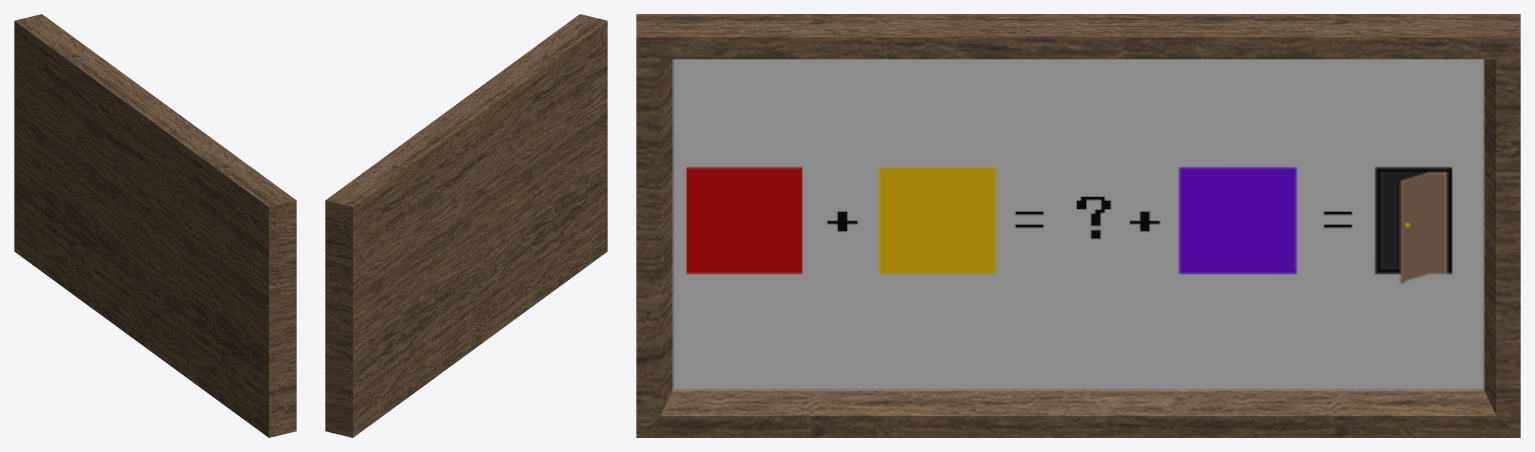
The model's file is Sign Guide 4.fbx.
3 renders of one model, left to right at view 1: azimuth 30°, elevation 25°; view 2: azimuth 150°, elevation 25°; view 3: azimuth 270°, elevation 25°, orthographic. The views are drawn at different scales.
Visible parts, largest first — view 1: Cube; view 2: Cube; view 3: Cube.
Part boxes in pixels (x1=…): Cube: x1=14, y1=14, x2=296, y2=437; Cube: x1=325, y1=14, x2=607, y2=437; Cube: x1=636, y1=14, x2=1520, y2=437.
Size of the model in its own units: 25.06 by 200 by 400.
Materials: 1 (1 with a texture image).
